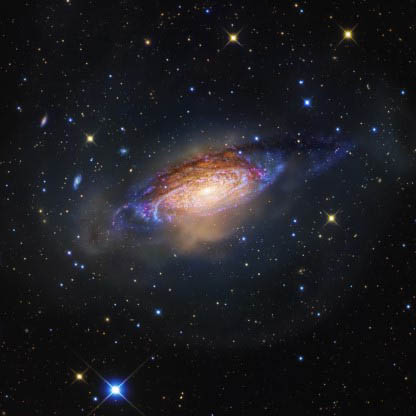NGC 3521: (58, 31, 339, 278)
